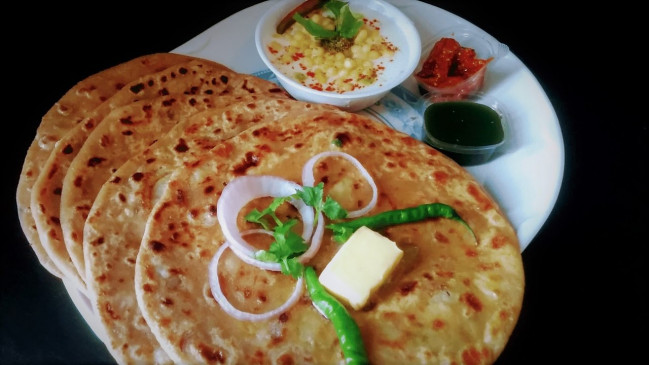aloo_paratha: (17, 50, 528, 365)
